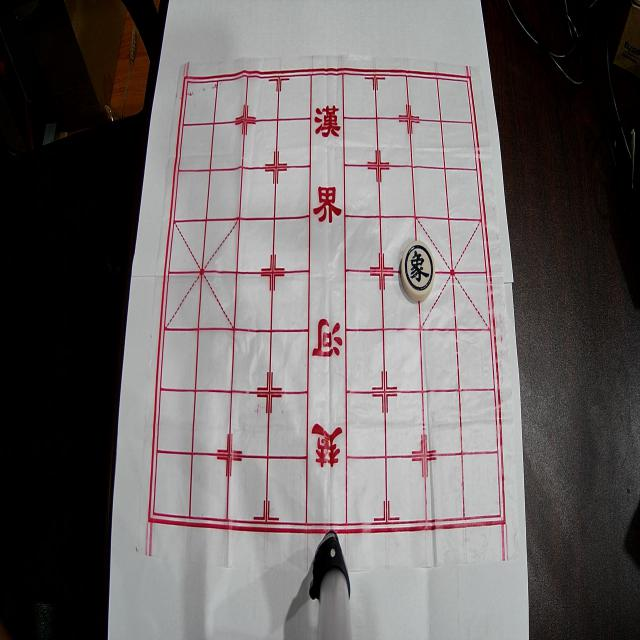black-elephant: (401, 241, 435, 300)
